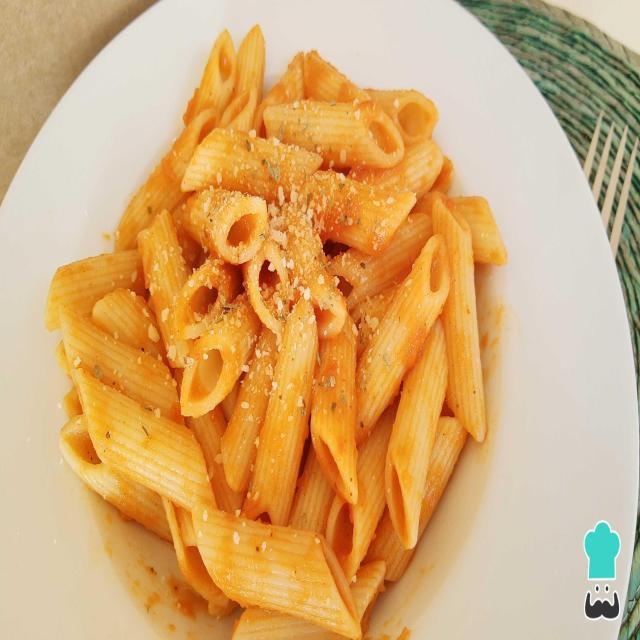pasta: (27, 29, 544, 628)
